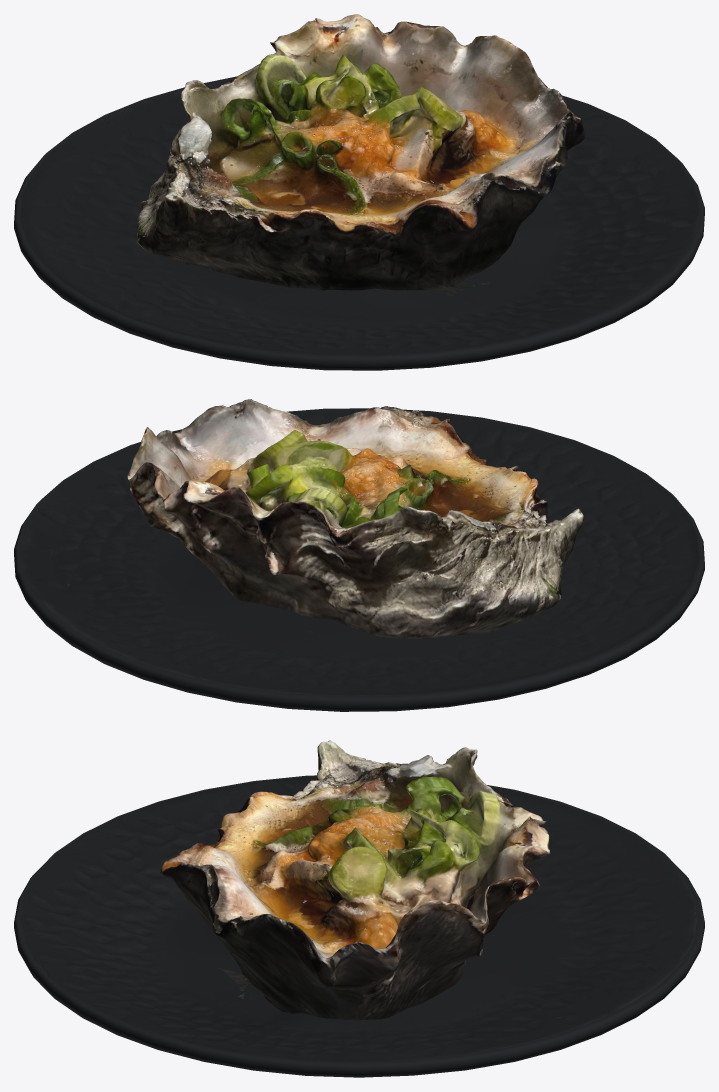
The model's file is Plato_11.glb.
The picture shows the model from 3 angles, top to bottom: view 1: azimuth 30°, elevation 25°; view 2: azimuth 150°, elevation 25°; view 3: azimuth 270°, elevation 25°; orthographic projection.
Parts seen in each view (by area): view 1: Baked Ponzu Oyster Izakaya Style Decimate, PlateFromSlicedMeat; view 2: PlateFromSlicedMeat, Baked Ponzu Oyster Izakaya Style Decimate; view 3: PlateFromSlicedMeat, Baked Ponzu Oyster Izakaya Style Decimate.
Part boxes in pixels (x1,y1,x2,y2): Baked Ponzu Oyster Izakaya Style Decimate: (136,14,584,298); PlateFromSlicedMeat: (14,76,704,370); PlateFromSlicedMeat: (14,408,704,711); Baked Ponzu Oyster Izakaya Style Decimate: (127,399,583,639); PlateFromSlicedMeat: (14,775,704,1077); Baked Ponzu Oyster Izakaya Style Decimate: (160,740,550,1020).
Size of the model in its own units: 0.25 by 0.0728 by 0.25.
Materials: 3 (2 with a texture image).
